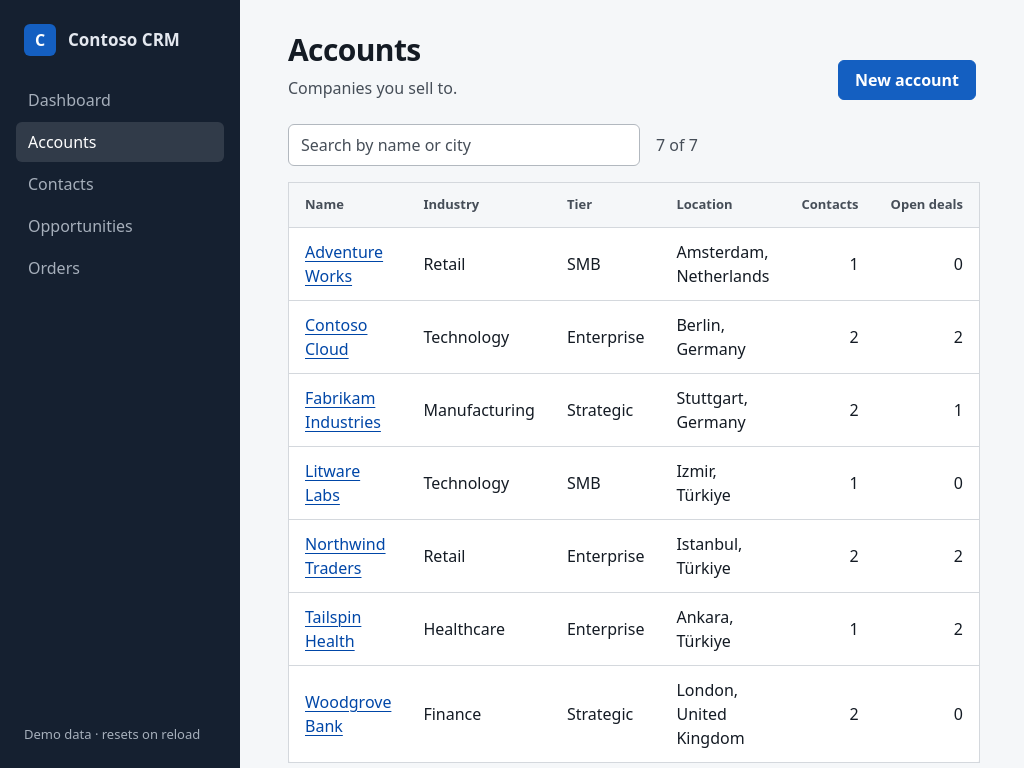
Test case: Accounts › filters the list by name or city
The image size is (1024, 768).
Type "stuttgart" into the search field named "Search accounts" at (464, 145), box [288,124,640,166]
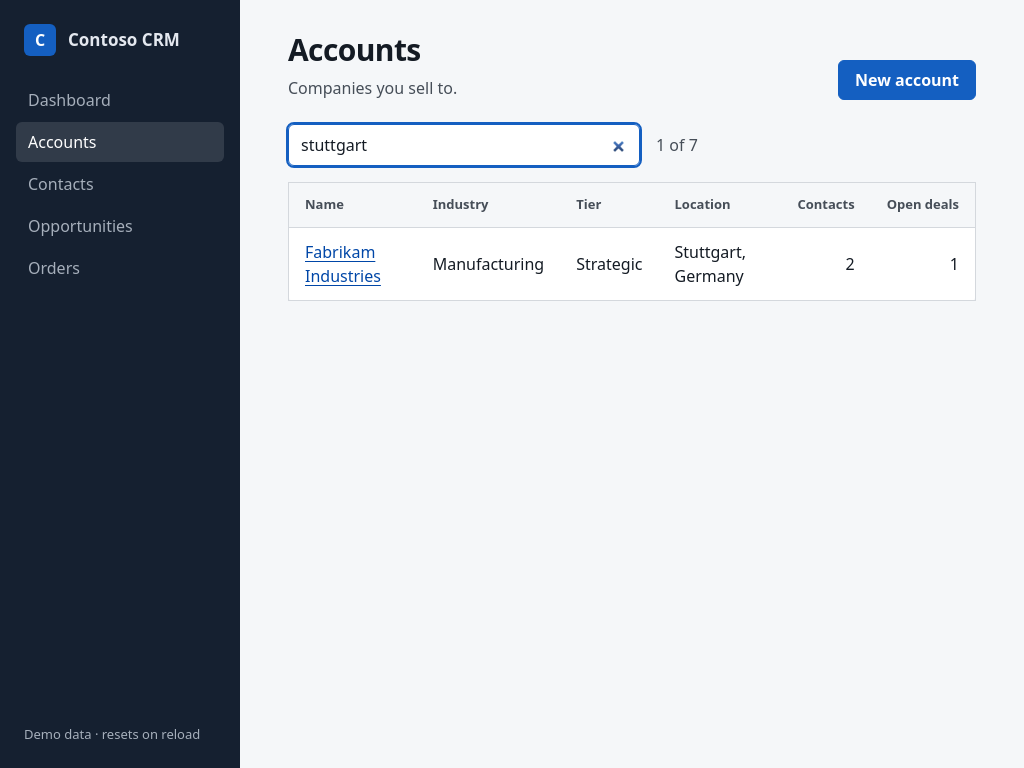
Expected: the link "Fabrikam Industries" is shown, [305,240,381,286]
Expected: the number of rows is 2, [288,182,976,227]; [288,227,976,300]
